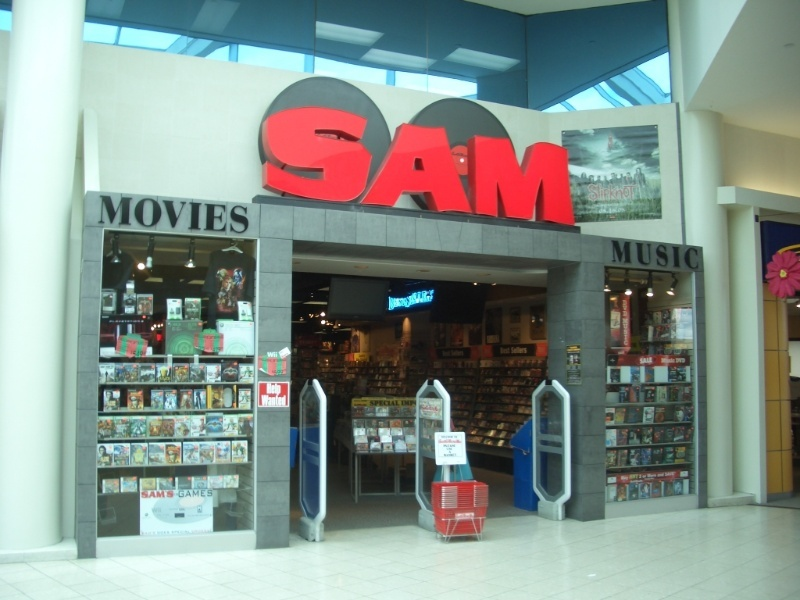text: (273, 100, 288, 229), (289, 100, 304, 229), (305, 100, 320, 229), (321, 100, 336, 229), (337, 100, 352, 229), (353, 100, 368, 229), (369, 100, 384, 229), (385, 100, 400, 229), (401, 100, 416, 229), (417, 100, 432, 229), (433, 100, 448, 229), (449, 100, 464, 229), (465, 100, 480, 229), (481, 100, 496, 229), (497, 100, 512, 229), (513, 100, 528, 229), (529, 100, 544, 229), (545, 100, 560, 229), (561, 100, 576, 229), (261, 100, 272, 229), (113, 193, 128, 235), (129, 193, 144, 235), (145, 193, 160, 235), (161, 193, 176, 235), (177, 193, 192, 235), (193, 193, 208, 235), (209, 193, 224, 235), (225, 193, 240, 235), (99, 193, 112, 235), (625, 240, 640, 270), (641, 240, 656, 270), (657, 240, 672, 270), (673, 240, 688, 270), (241, 193, 251, 235), (611, 240, 624, 270), (401, 289, 416, 313), (417, 289, 432, 313), (689, 240, 700, 270), (593, 182, 608, 204), (609, 182, 624, 204), (625, 182, 640, 204), (387, 289, 400, 313), (273, 394, 286, 408), (261, 394, 272, 408), (145, 489, 160, 498), (449, 350, 464, 358), (401, 399, 416, 407), (193, 490, 208, 498), (273, 383, 282, 396), (161, 489, 174, 498), (178, 490, 192, 498), (587, 182, 592, 204), (625, 319, 629, 346), (133, 350, 144, 359), (513, 347, 527, 354), (641, 357, 653, 365), (676, 357, 688, 365), (500, 347, 512, 355), (385, 400, 401, 406), (369, 400, 384, 406), (273, 370, 288, 376), (266, 383, 272, 396), (661, 358, 672, 365), (151, 507, 160, 515), (625, 300, 629, 316), (440, 350, 448, 358), (449, 434, 459, 440), (622, 319, 624, 346), (449, 440, 462, 444), (449, 452, 459, 457), (440, 434, 448, 440), (273, 350, 279, 358), (438, 440, 448, 444), (449, 443, 457, 448), (267, 350, 272, 358), (622, 300, 624, 316), (209, 490, 213, 498), (443, 443, 448, 448), (443, 452, 448, 457), (449, 447, 455, 451), (673, 358, 676, 365), (142, 489, 144, 498), (161, 507, 163, 515), (445, 447, 448, 451), (465, 350, 466, 358), (417, 399, 418, 407), (511, 347, 512, 354)
